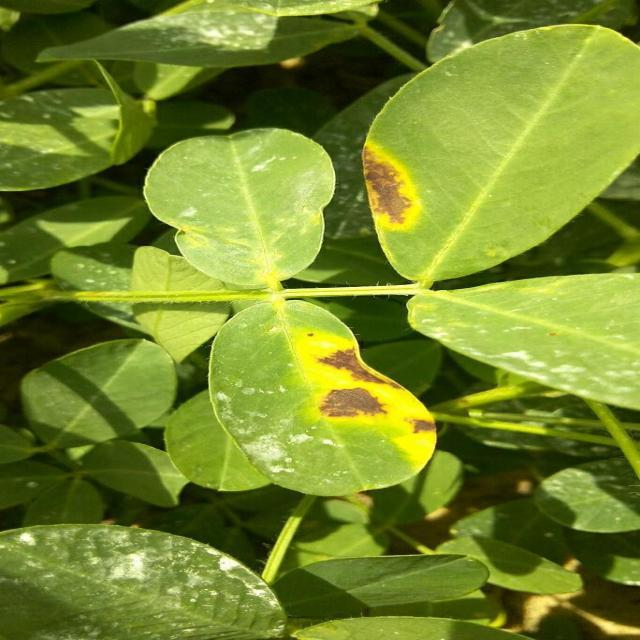Bacterial_Spot: (163, 134, 578, 474)
